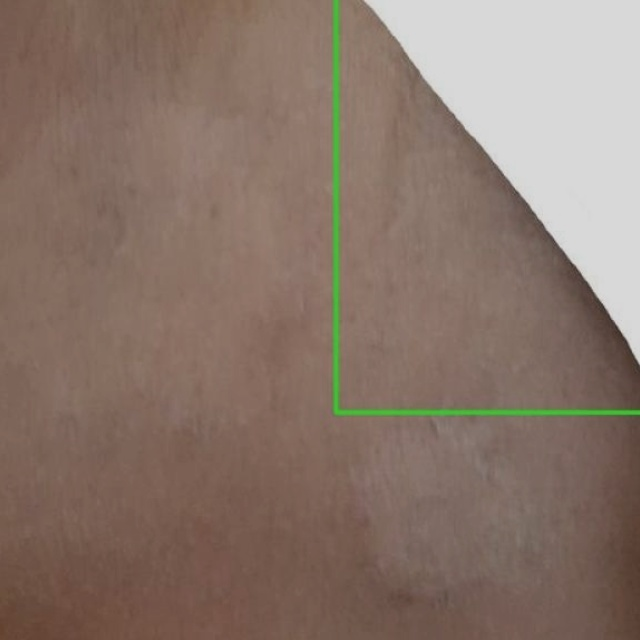Tinea Corporis: (336, 0, 639, 412)
